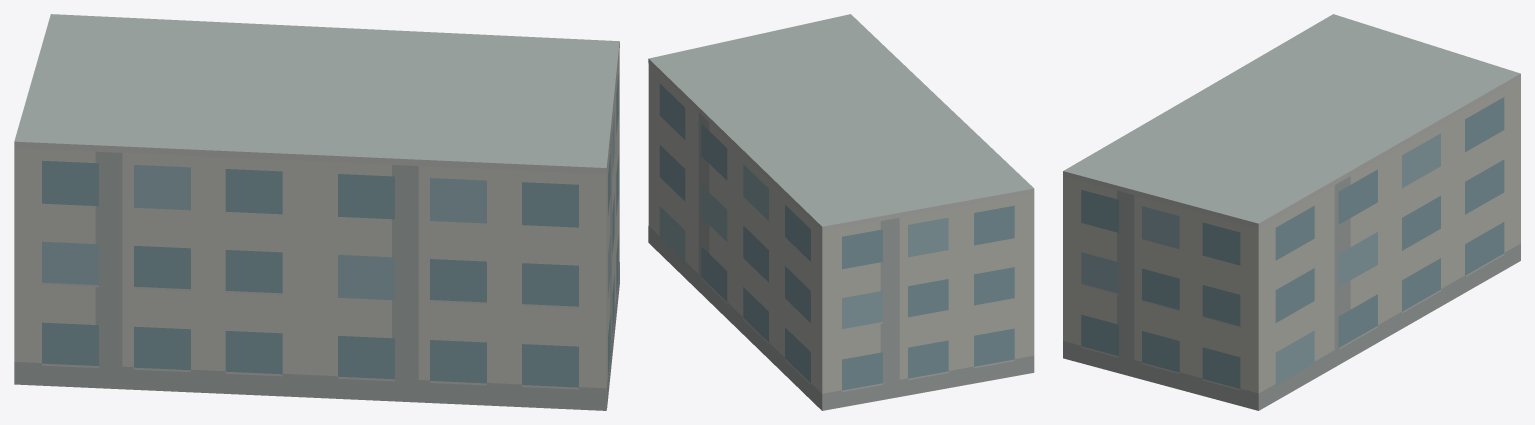
The model's file is residential-0d60522c-75ad-4f81-a99a-63b7fd7ee4aa.glb.
The picture shows the model from 3 angles, left to right: view 1: azimuth 30°, elevation 25°; view 2: azimuth 150°, elevation 25°; view 3: azimuth 270°, elevation 25°; orthographic projection. The views are drawn at different scales.
Parts seen in each view (by area): view 1: residential-0d60522c-75ad-4f81-a99a-63b7fd7ee4aa.tmp; view 2: residential-0d60522c-75ad-4f81-a99a-63b7fd7ee4aa.tmp; view 3: residential-0d60522c-75ad-4f81-a99a-63b7fd7ee4aa.tmp.
Boxes of the visible parts, bbox=[...] form: residential-0d60522c-75ad-4f81-a99a-63b7fd7ee4aa.tmp: bbox=[14, 14, 619, 410]; residential-0d60522c-75ad-4f81-a99a-63b7fd7ee4aa.tmp: bbox=[648, 14, 1034, 410]; residential-0d60522c-75ad-4f81-a99a-63b7fd7ee4aa.tmp: bbox=[1063, 14, 1520, 410].
Size of the model in its own units: 21.98 by 9.15 by 20.28.
